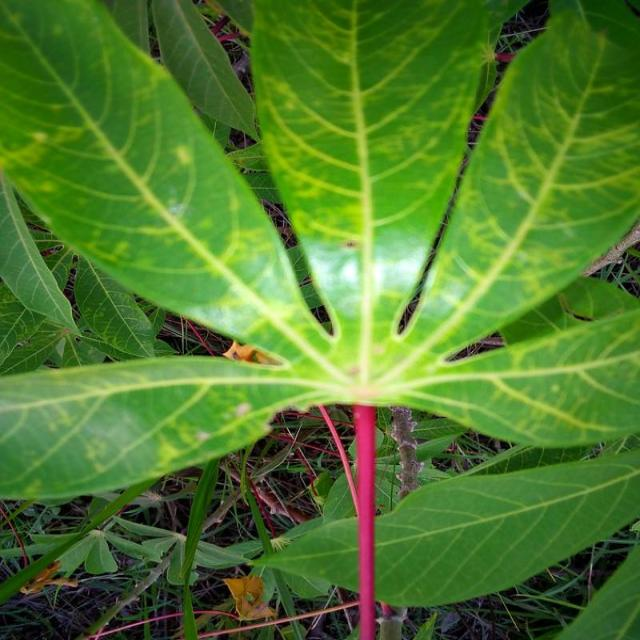cassava leaf: (0, 0, 638, 615), (249, 446, 639, 608)
